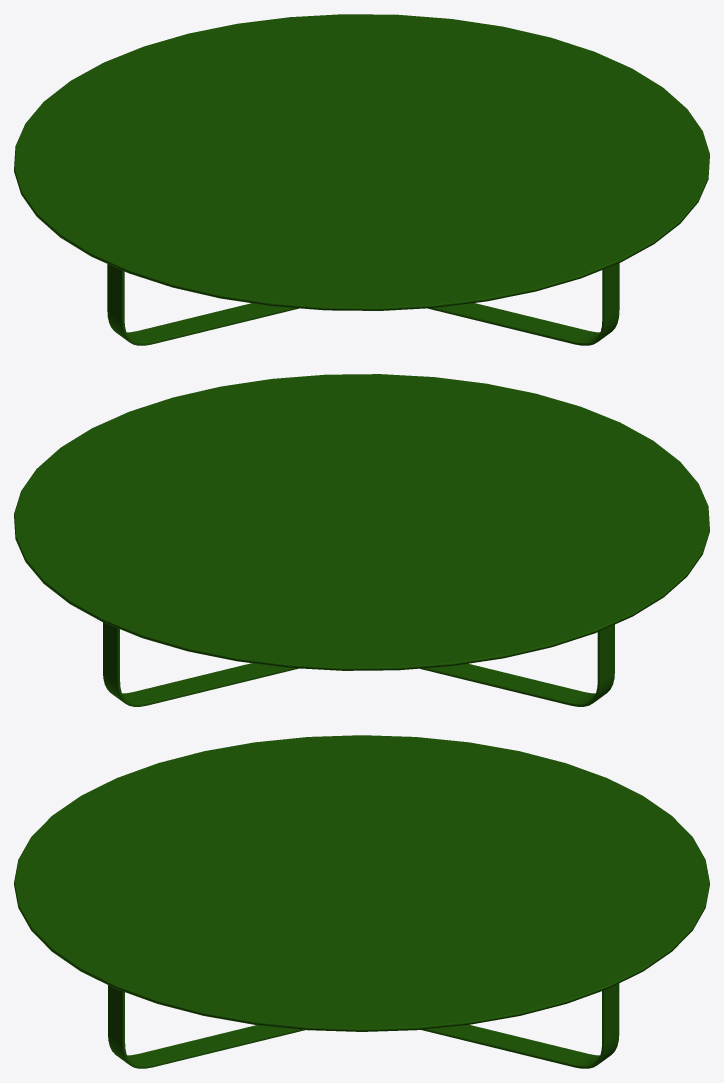
File: Green_Table.glb
3 views of the same model, one above another, from view 1: azimuth 30°, elevation 25°; view 2: azimuth 150°, elevation 25°; view 3: azimuth 270°, elevation 25° (orthographic).
Parts seen in each view (by area): view 1: Cylinder005; view 2: Cylinder005; view 3: Cylinder005.
Boxes of the visible parts, x1,y1,x2,y2 form: Cylinder005: [14, 14, 709, 345]; Cylinder005: [14, 374, 709, 706]; Cylinder005: [14, 735, 709, 1068].
Size of the model in its own units: 200 by 40 by 200.
